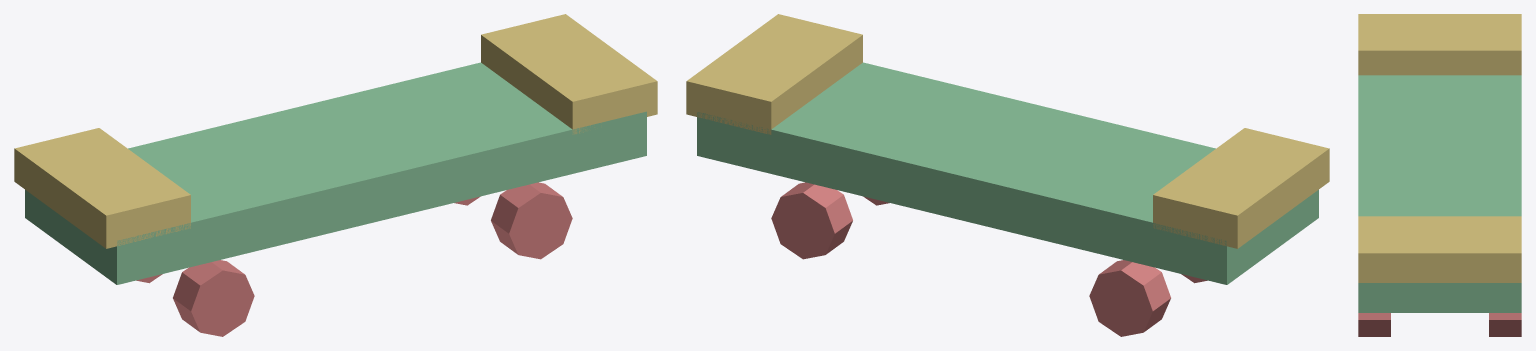
File: kid_skate.glb
3 renders of one model, left to right at view 1: azimuth 30°, elevation 25°; view 2: azimuth 150°, elevation 25°; view 3: azimuth 270°, elevation 25°, orthographic. The views are drawn at different scales.
Visible parts, largest first — view 1: KID_SKATE_v01; view 2: KID_SKATE_v01; view 3: KID_SKATE_v01.
Boxes of the visible parts, left/top/right/bottom form: KID_SKATE_v01: left=14, top=14, right=657, bottom=336; KID_SKATE_v01: left=686, top=14, right=1329, bottom=336; KID_SKATE_v01: left=1358, top=14, right=1521, bottom=336.
Bounding box in the file's own units: 0.52 × 0.135 × 0.15.
